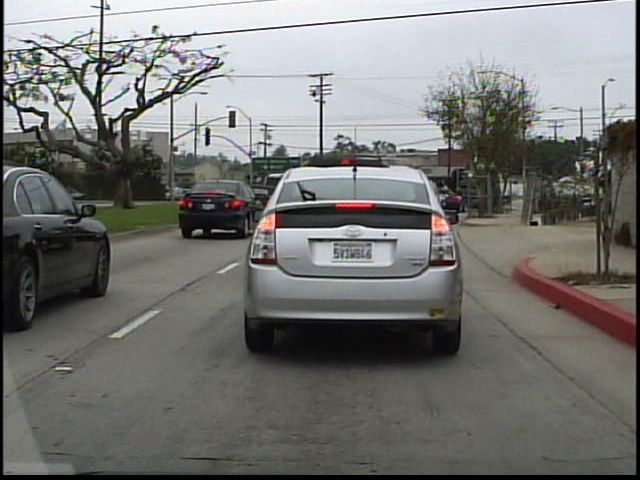person: (590, 160, 618, 248)
